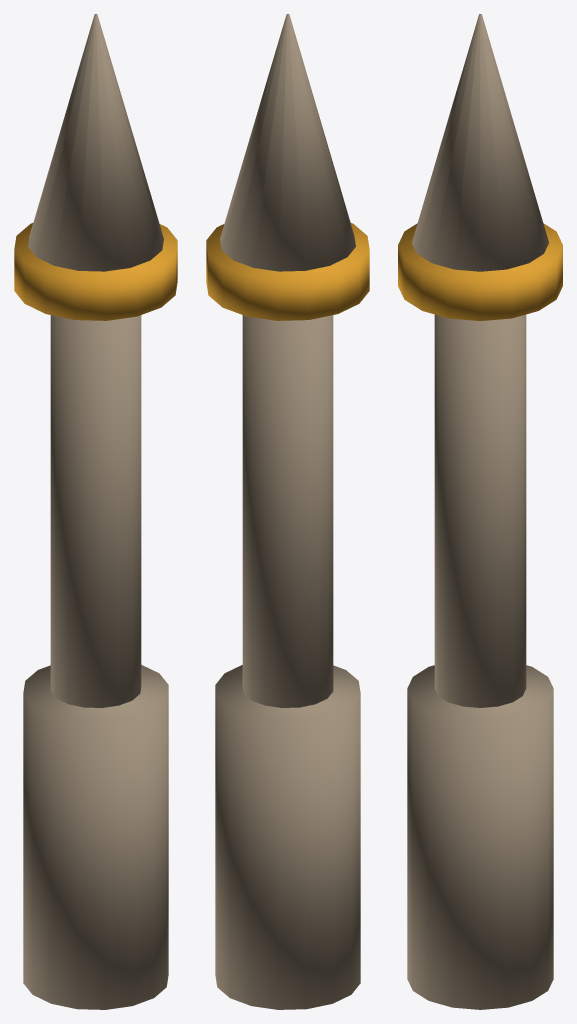
File: Minaret.fbx
The picture shows the model from 3 angles, left to right: view 1: azimuth 30°, elevation 25°; view 2: azimuth 150°, elevation 25°; view 3: azimuth 270°, elevation 25°; orthographic projection.
Visible parts, largest first — view 1: Landmark_Minaret; view 2: Landmark_Minaret; view 3: Landmark_Minaret.
Boxes of the visible parts, x1,y1,x2,y2 form: Landmark_Minaret: [14, 14, 177, 1009]; Landmark_Minaret: [206, 14, 369, 1009]; Landmark_Minaret: [398, 14, 562, 1009].
Size of the model in its own units: 2.16 by 13.95 by 2.16.
